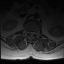CCS_stenosis: (30, 29, 32, 37)
LFS_normal: (34, 31, 36, 35)
LLS_normal: (32, 30, 34, 36)
RFS_stenosis: (27, 30, 29, 34)
RLS_normal: (29, 29, 30, 36)
